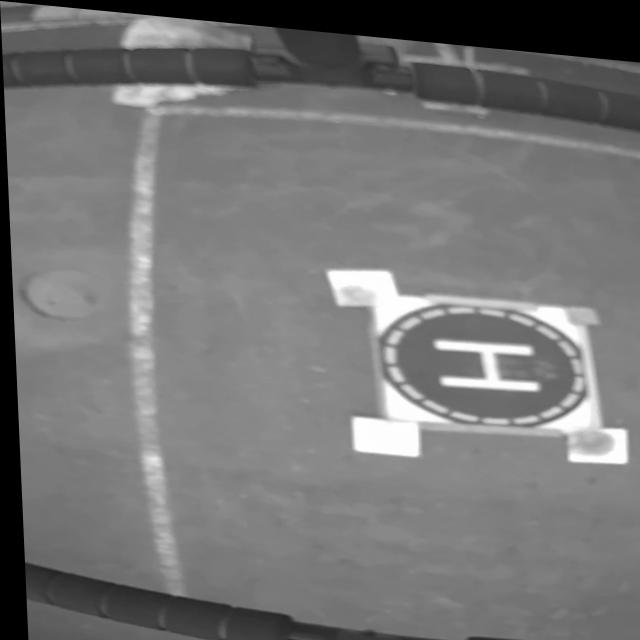Helipad: (427, 328, 541, 382)
